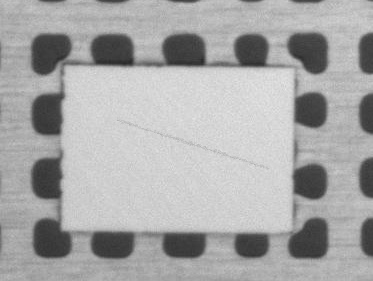DIE_CRACK: (155, 90, 356, 127)
